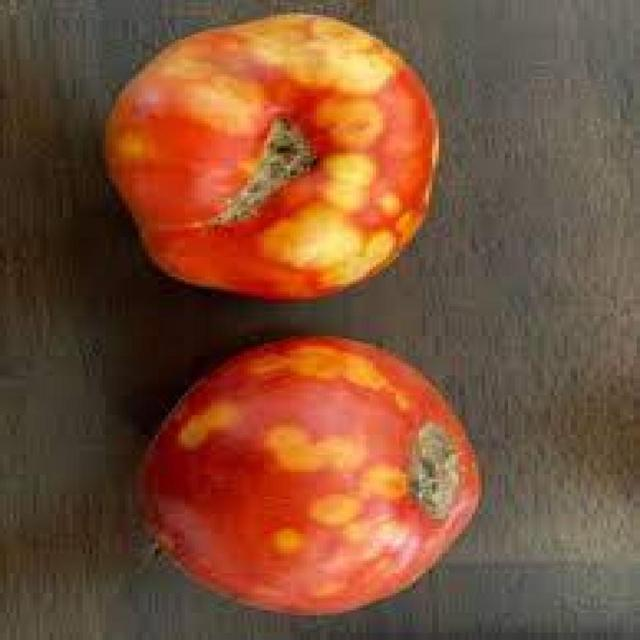Spotted wilt Virus Fruit: (73, 74, 97, 344)
